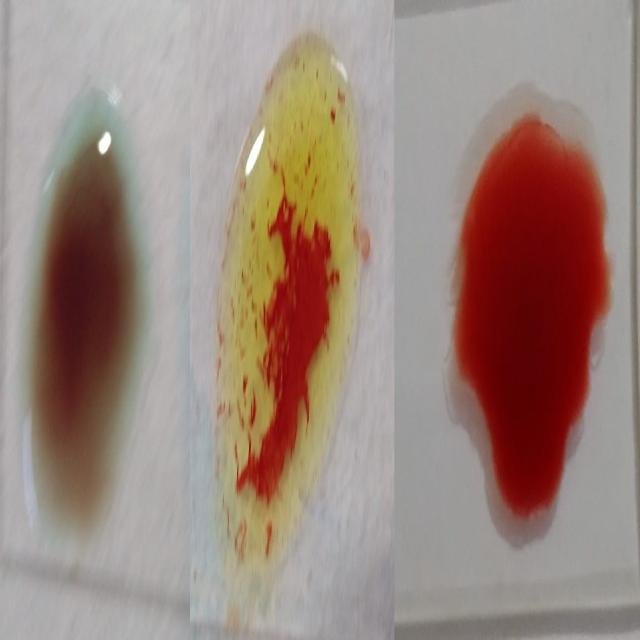B: (215, 26, 358, 586)
